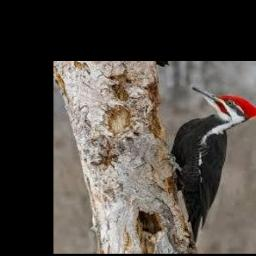Woodpecker: (170, 86, 256, 245)
